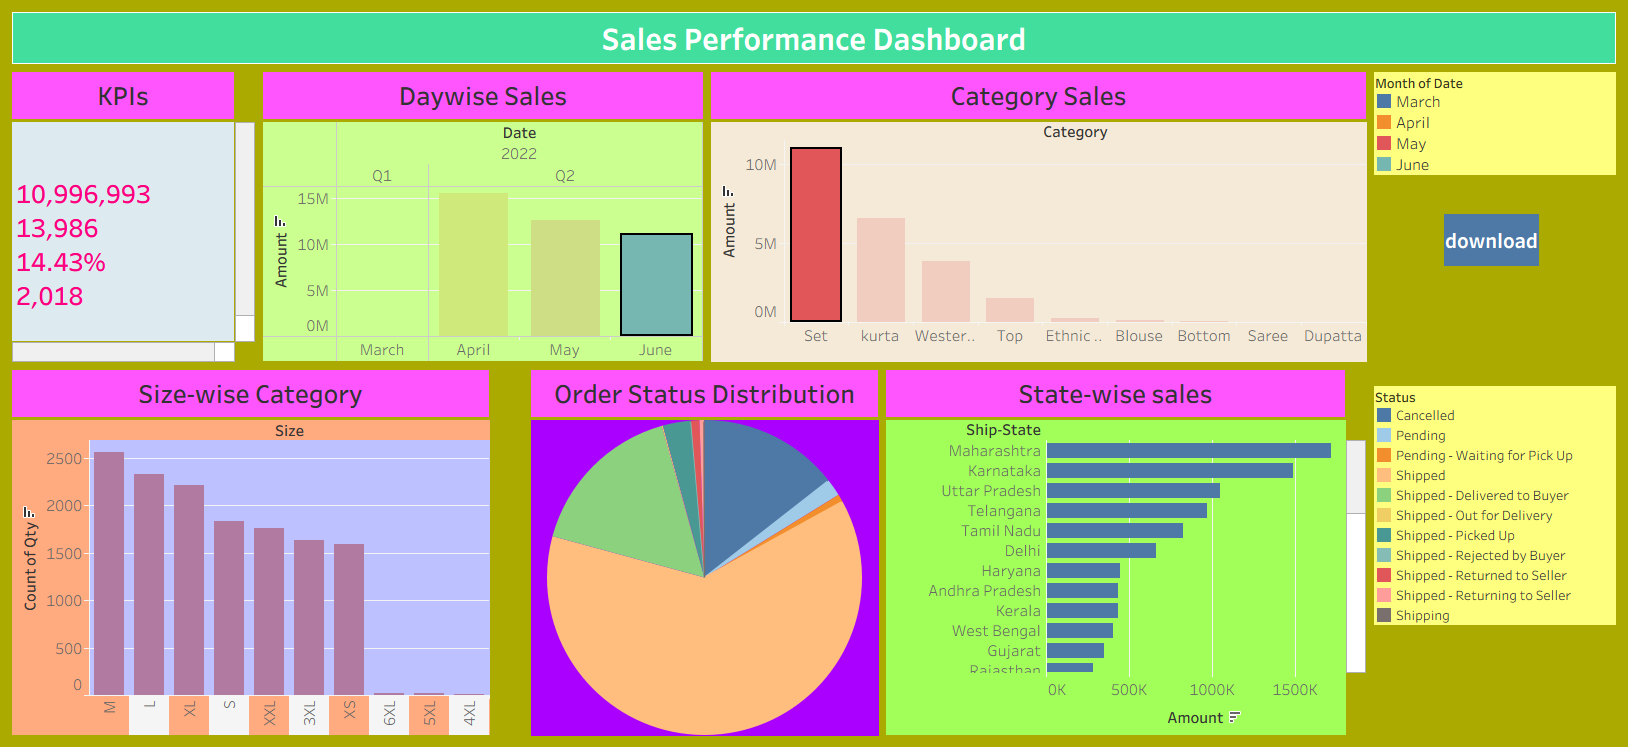

Layout of this report page (visuals, bound fields, positions):
{"tool":"tableau","page":{"name":"Dashboard 1","canvas":[1000,1000],"units":"permille","ordinal":0},"visuals":[{"type":"title","box":[4.9,10.7,990.2,80.3]},{"type":"dashboard-object","box":[894.4,28.1,53.4,48.2]},{"type":"worksheet","title":"KPIs","mark":"Automatic","box":[4.9,91,154.4,399.3]},{"type":"worksheet","title":"Daywise Sales","mark":"Bar","rows":["Amount"],"cols":["Date","Date","Date"],"box":[159.3,91,275,399.3]},{"type":"worksheet","title":"Category Sales","mark":"Automatic","rows":["Amount"],"cols":["Category"],"box":[434.3,91,407.2,399.3]},{"type":"legend","title":"Daywise Sales","param":"[federated.0tvh5uj1b8belp159f1g51oniq9h].[mn:Date:ok]","box":[841.5,91,153.6,402.9]},{"type":"worksheet","title":"Size-wise Category","mark":"Automatic","rows":["Qty"],"cols":["Size"],"box":[4.9,490.3,318.8,499]},{"type":"worksheet","title":"Order Status Distribution","mark":"Pie","box":[323.7,490.3,218,499]},{"type":"worksheet","title":"State-wise sales","mark":"Automatic","rows":["ship-state"],"cols":["Amount"],"box":[541.6,490.3,299.9,499]},{"type":"legend","title":"Order Status Distribution","param":"[federated.0tvh5uj1b8belp159f1g51oniq9h].[none:Status:nk]","box":[841.5,511.3,153.6,478]}]}

Visuals, with their boxes on the dashboard's canvas, which has no fixed pixel size, in thousandths of its width and height (x1, y1, x2, y2). These are canvas units, not pixel positions in the 1628x747 screenshot, which may show the page scaled, cropped or inside an application window:
title: bbox=[5, 11, 995, 91]
dashboard-object: bbox=[894, 28, 948, 76]
"KPIs" worksheet: bbox=[5, 91, 159, 490]
"Daywise Sales" worksheet (Bar marks): bbox=[159, 91, 434, 490]
"Category Sales" worksheet: bbox=[434, 91, 842, 490]
"Daywise Sales" legend: bbox=[842, 91, 995, 494]
"Size-wise Category" worksheet: bbox=[5, 490, 324, 989]
"Order Status Distribution" worksheet (Pie marks): bbox=[324, 490, 542, 989]
"State-wise sales" worksheet: bbox=[542, 490, 842, 989]
"Order Status Distribution" legend: bbox=[842, 511, 995, 989]
